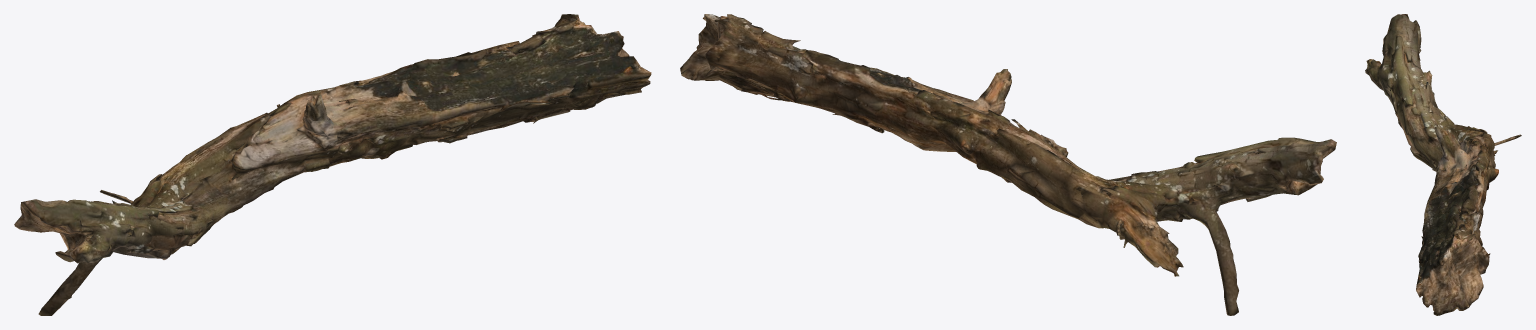
The model's file is dead_tree_trunk_02_wood.glb.
3 views of the same model, side by side, from view 1: azimuth 30°, elevation 25°; view 2: azimuth 150°, elevation 25°; view 3: azimuth 270°, elevation 25° (orthographic). The views are drawn at different scales.
Parts seen in each view (by area): view 1: dead_tree_trunk_02; view 2: dead_tree_trunk_02; view 3: dead_tree_trunk_02.
Boxes of the visible parts, x1,y1,x2,y2 form: dead_tree_trunk_02: [14, 14, 651, 315]; dead_tree_trunk_02: [680, 14, 1336, 315]; dead_tree_trunk_02: [1365, 14, 1521, 315].
Bounding box in the file's own units: 4.05 × 1.05 × 1.05.
Materials: 1 (1 with a texture image).
